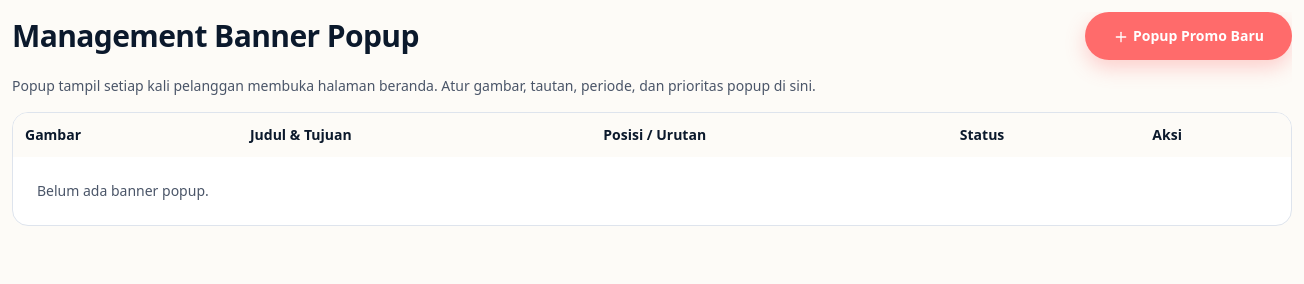
Test: normal and popup management isolate their lists and creation forms
Later steps or results of the test are not shown.
Click the button with test id "add-popup-banner-btn" at (1188,36), box [1085,12,1292,60]
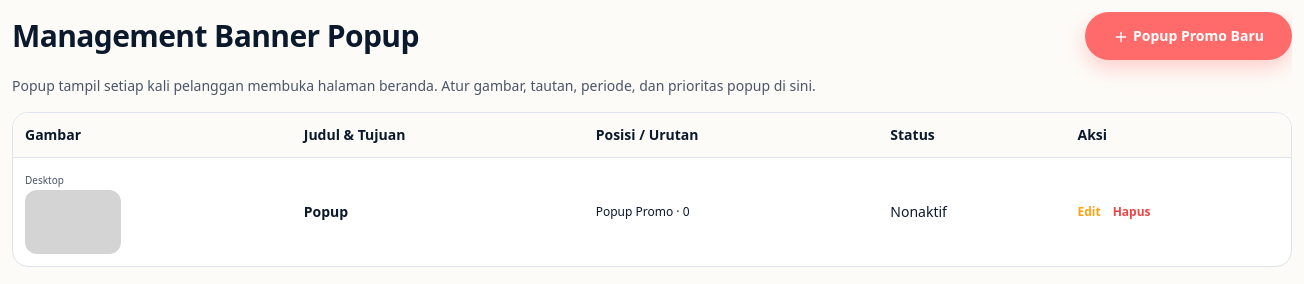
Expected: the row with test id "banner-pop" is shown, [13,158,1291,266]
